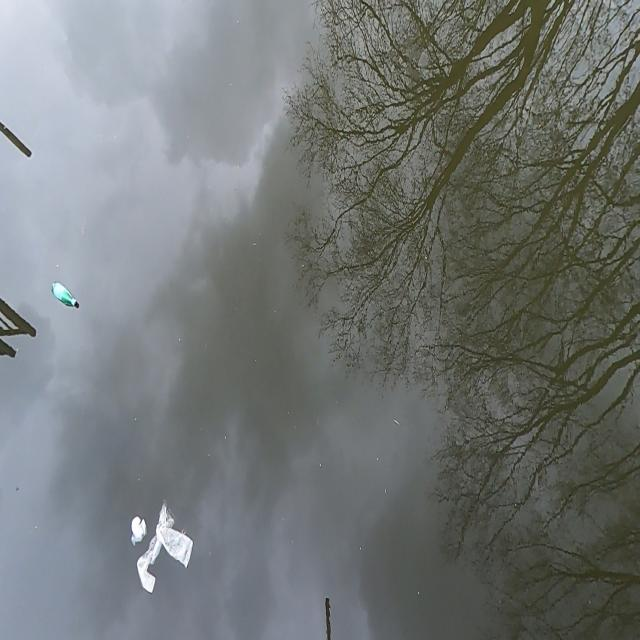Autre plastique: (129, 514, 149, 548)
Bouteille plastique: (50, 282, 82, 316)
